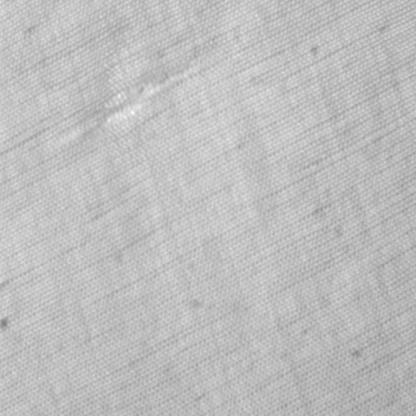thread error: (33, 47, 224, 152)
